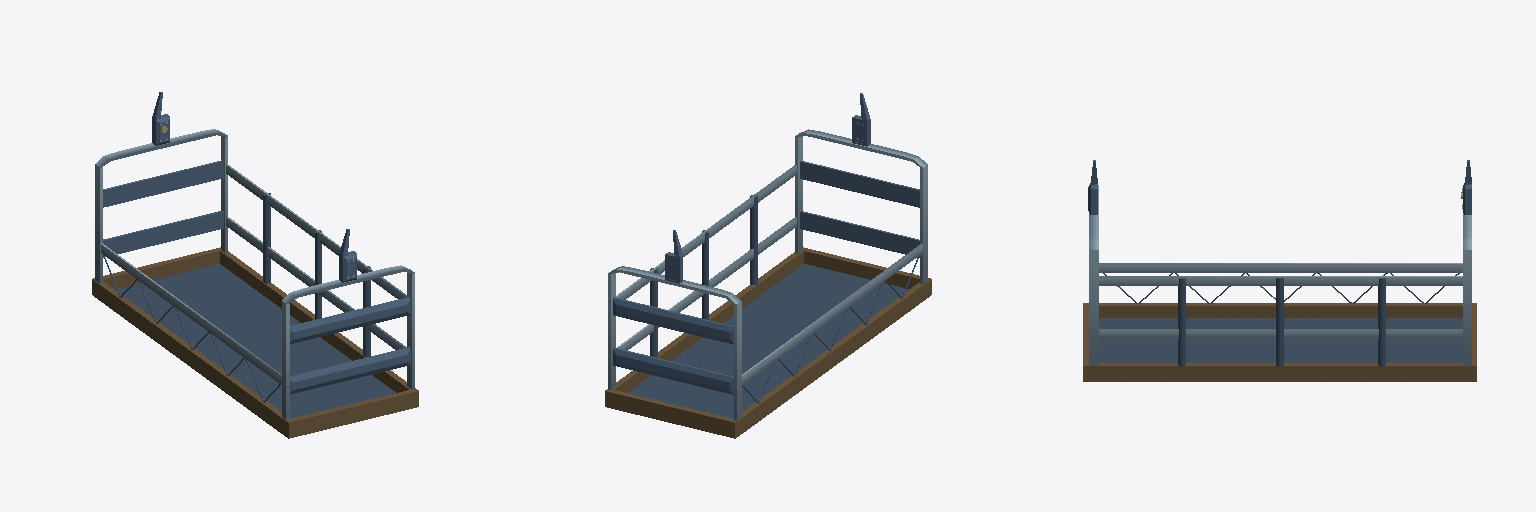
3 views of the same model, side by side, from view 1: azimuth 30°, elevation 25°; view 2: azimuth 150°, elevation 25°; view 3: azimuth 270°, elevation 25° (orthographic).
Bounding box in the file's own units: 124 × 170 × 321.
Materials: 1 (1 with a texture image).